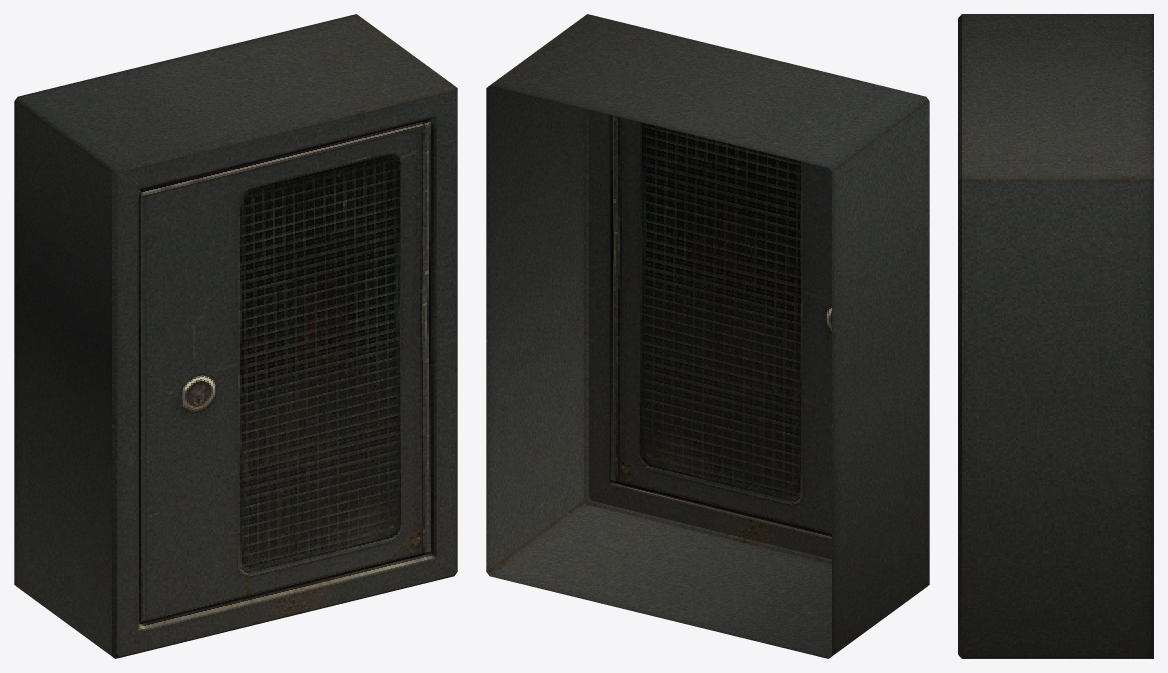
Rendered from wall_box_1.glb.
The picture shows the model from 3 angles, left to right: view 1: azimuth 30°, elevation 25°; view 2: azimuth 150°, elevation 25°; view 3: azimuth 270°, elevation 25°; orthographic projection.
Visible parts, largest first — view 1: wall_box_1; view 2: wall_box_1; view 3: wall_box_1.
Boxes of the visible parts, box(x1,y1,x2,y2) form: wall_box_1: box(14, 14, 457, 658); wall_box_1: box(486, 14, 929, 658); wall_box_1: box(958, 14, 1153, 658).
Size of the model in its own units: 0.491 by 0.666 by 0.245.
1 material, 1 textured.
